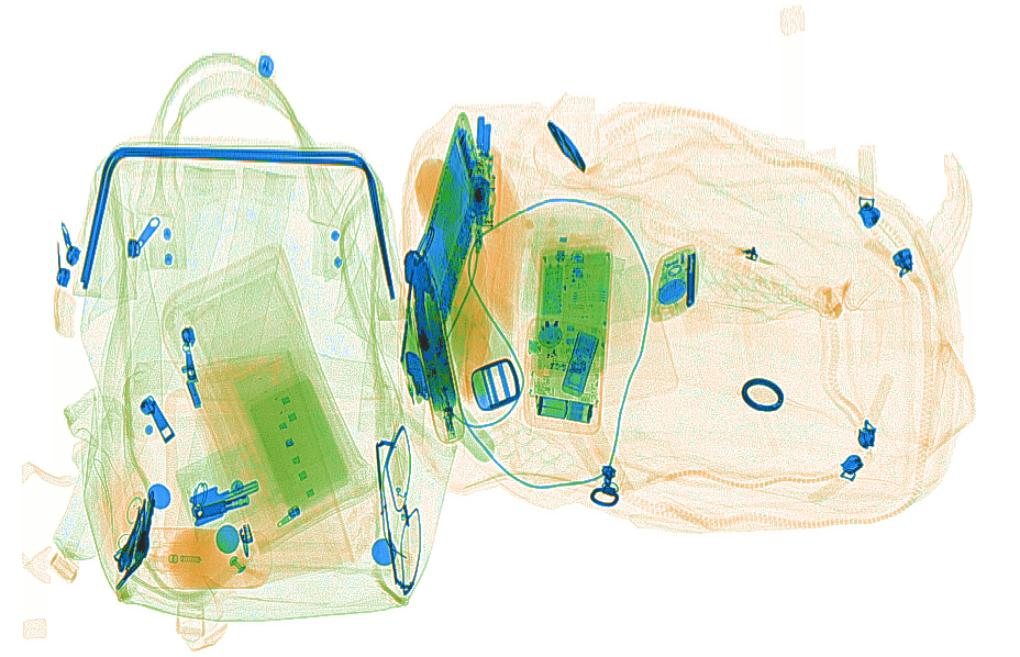USBFlashDisk: (561, 330, 602, 399)
battery: (534, 394, 592, 424)
plasticBottleWithaNozzle: (140, 526, 273, 591)
